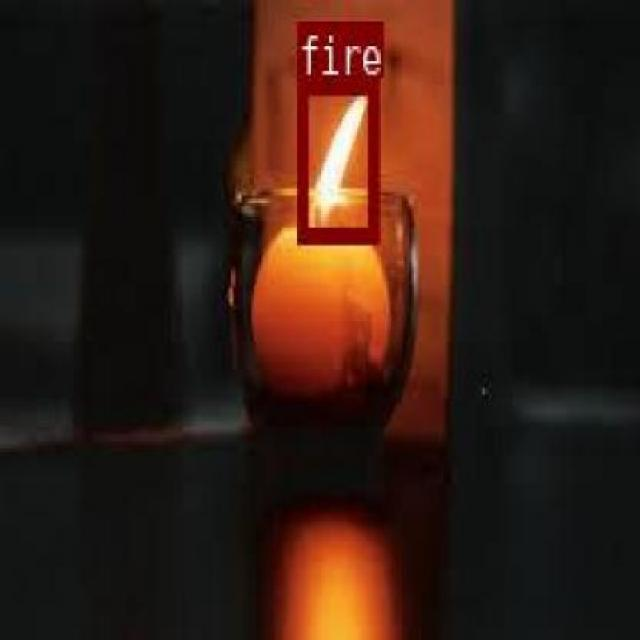fire: (294, 78, 376, 239)
